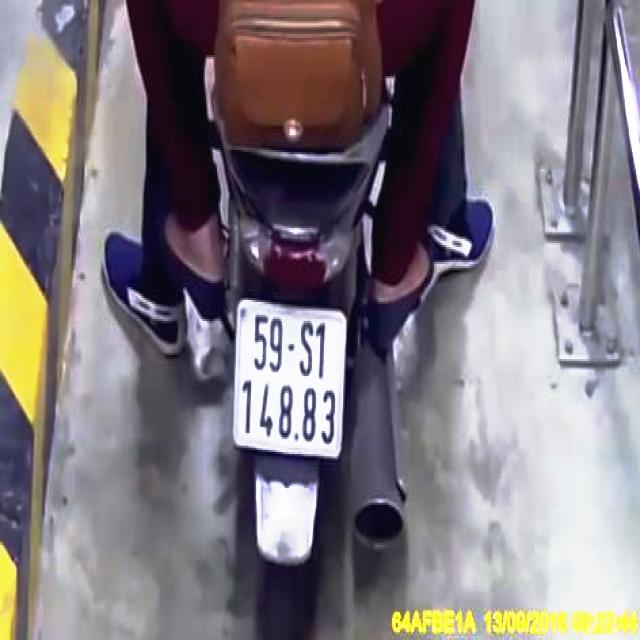license_plate: (235, 304, 347, 459)
